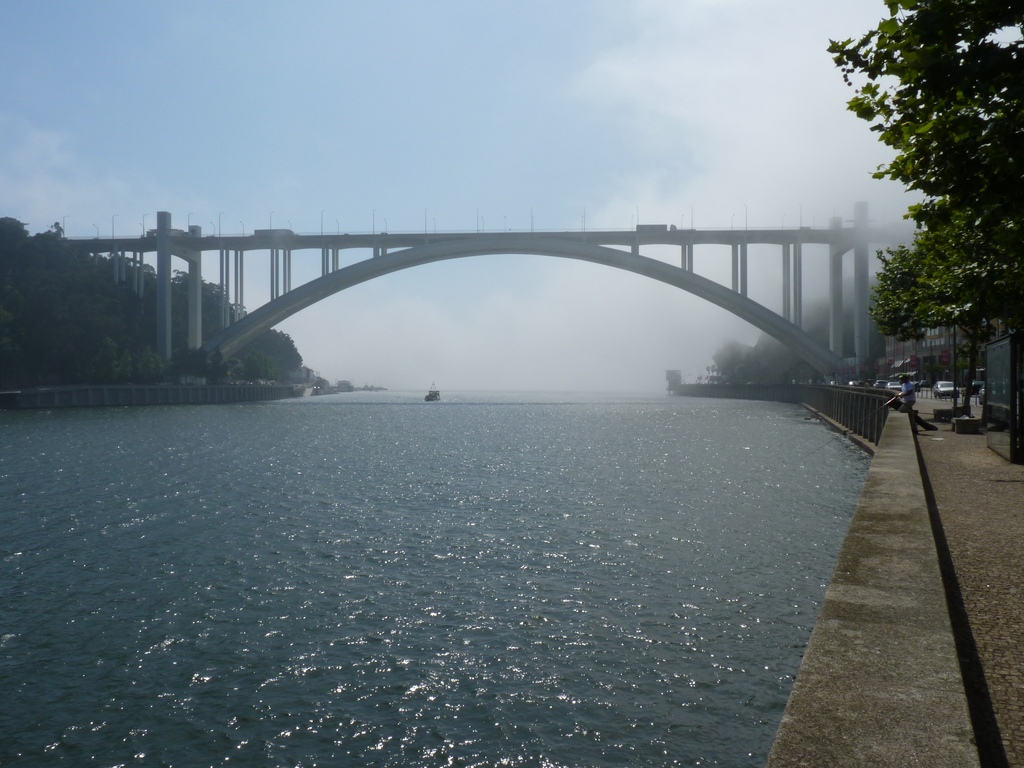arrabida: (72, 201, 920, 382)
